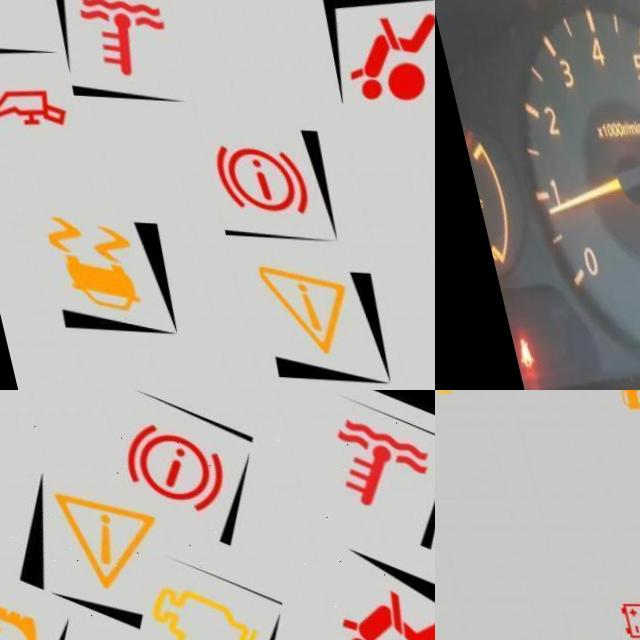Seat Belt: (493, 336, 515, 370)
